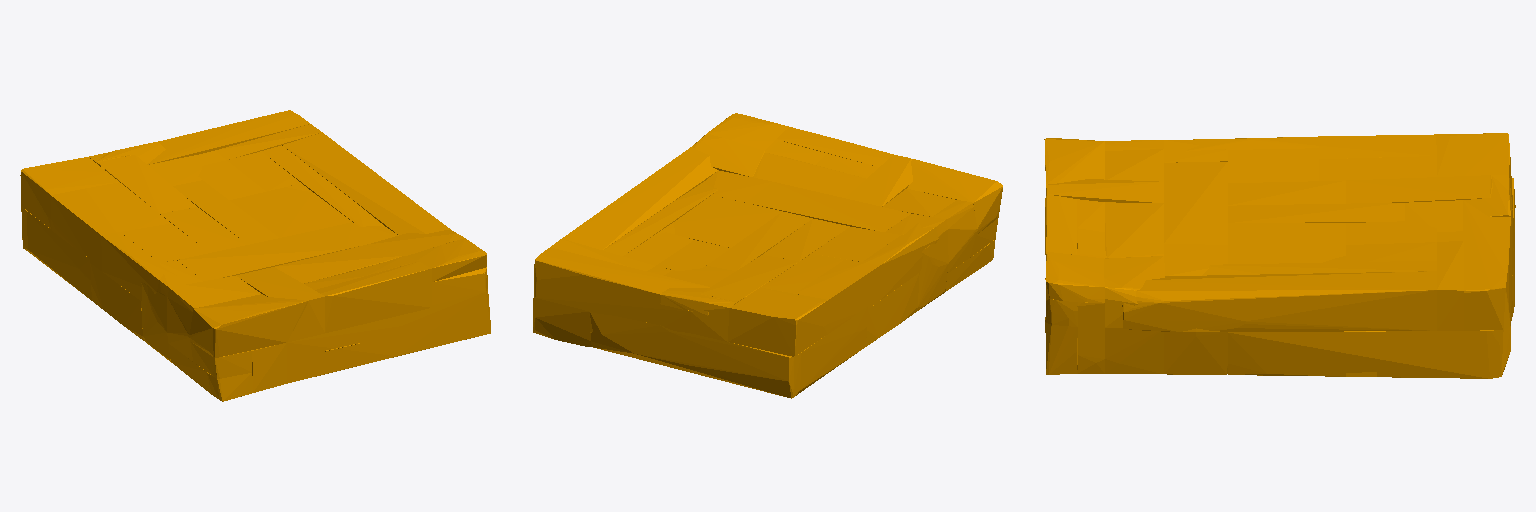
The robot description file, URDF, robot "box-crunchy":
<?xml version="1.0" ?>
<robot name="box-crunchy">
  <link name="baseLink">
    <contact>
      <lateral_friction value="1.0"/>
      <inertia_scaling value="3.0"/>
    </contact>
    <inertial>
      <origin rpy="0 0 0" xyz="0.000 0.000 0.000"/>
       <mass value=".1"/>
       <inertia ixx="1" ixy="0.0" ixz="0.0" iyy="1" iyz="0.0" izz="1"/>
    </inertial>
    <visual>
      <origin rpy="0 0 0" xyz="0 0 0"/>
      <geometry>
        <mesh filename="box/box-crunchy_muesli.obj" scale="1.0 1.0 1.0"/>
      </geometry>
    </visual>
    <collision>
      <origin rpy="0 0 0" xyz="0 0 0"/>
      <geometry>
        <mesh filename="../collision/box/box-crunchy_muesli.obj" scale="1.0 1.0 1.0"/>
      </geometry>
    </collision>
  </link>
</robot>
        

--- Facts derived from the render (not from the file) ---
The picture shows the robot from 3 angles, left to right: view 1: azimuth 30°, elevation 25°; view 2: azimuth 150°, elevation 25°; view 3: azimuth 270°, elevation 25°; orthographic projection.
Model box-crunchy with 1 links and 0 joints (none), rooted at baseLink, posed all joints at 0.
Visible links, largest first — view 1: baseLink; view 2: baseLink; view 3: baseLink.
Boxes of the visible links, bbox=[...] form: baseLink: bbox=[20, 110, 490, 401]; baseLink: bbox=[533, 113, 1002, 398]; baseLink: bbox=[1044, 133, 1515, 378].
Size in the robot's own frame: 0.2 by 0.2514 by 0.0577 metres.
1 mesh visuals loaded from 1 distinct referenced files (1 OBJ).